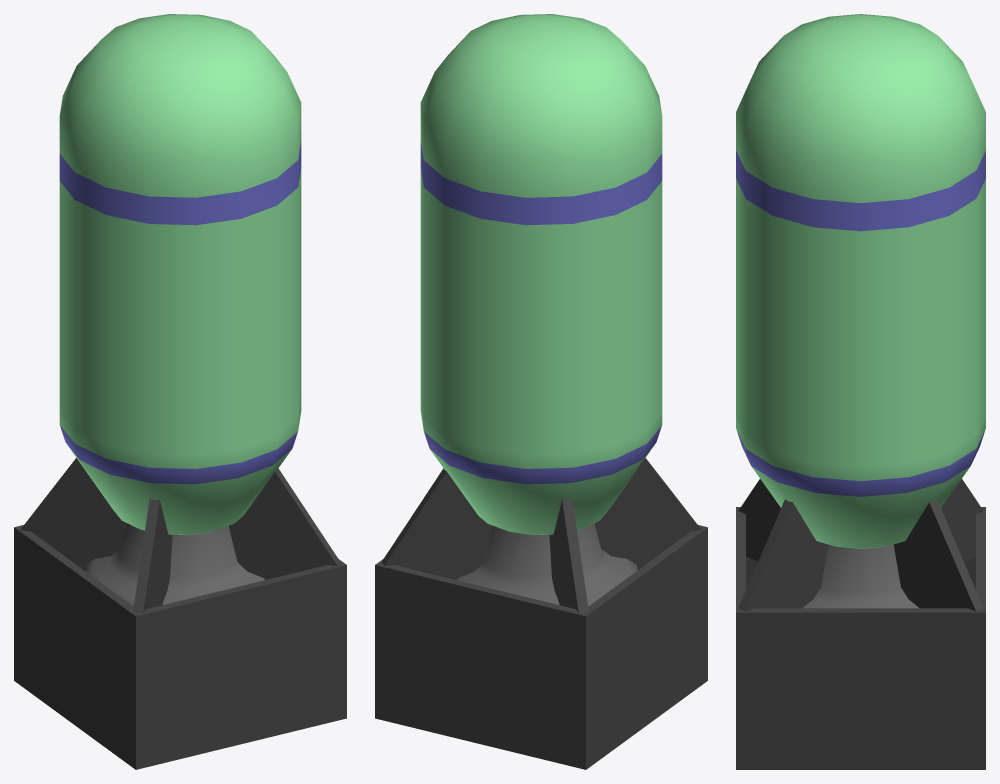
The model's file is Bomb_Lv3.fbx.
3 views of the same model, side by side, from view 1: azimuth 30°, elevation 25°; view 2: azimuth 150°, elevation 25°; view 3: azimuth 270°, elevation 25° (orthographic). The views are drawn at different scales.
Parts seen in each view (by area): view 1: Motor_3, Body_3, Head_3; view 2: Motor_3, Body_3, Head_3; view 3: Body_3, Motor_3, Head_3.
Part boxes in pixels (bbox=[...]): Motor_3: bbox=[14, 458, 346, 769]; Body_3: bbox=[59, 155, 301, 534]; Head_3: bbox=[59, 14, 301, 211]; Motor_3: bbox=[375, 458, 707, 769]; Body_3: bbox=[420, 155, 662, 534]; Head_3: bbox=[420, 14, 662, 211]; Body_3: bbox=[736, 165, 985, 548]; Motor_3: bbox=[736, 479, 985, 769]; Head_3: bbox=[736, 14, 985, 217].
Bounding box in the file's own units: 2 × 6.17 × 2.
